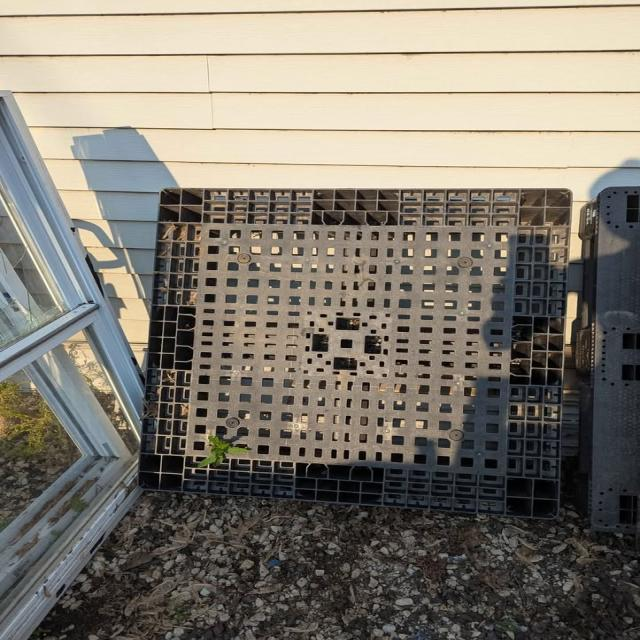non-igps: (131, 180, 584, 526), (570, 183, 640, 540)
